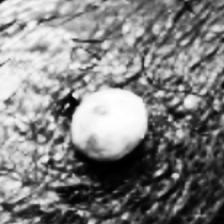Benign Marking or Mole: (68, 89, 152, 168)
